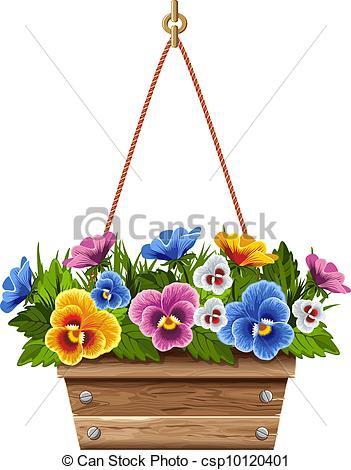flowerpot: (52, 345, 293, 450)
